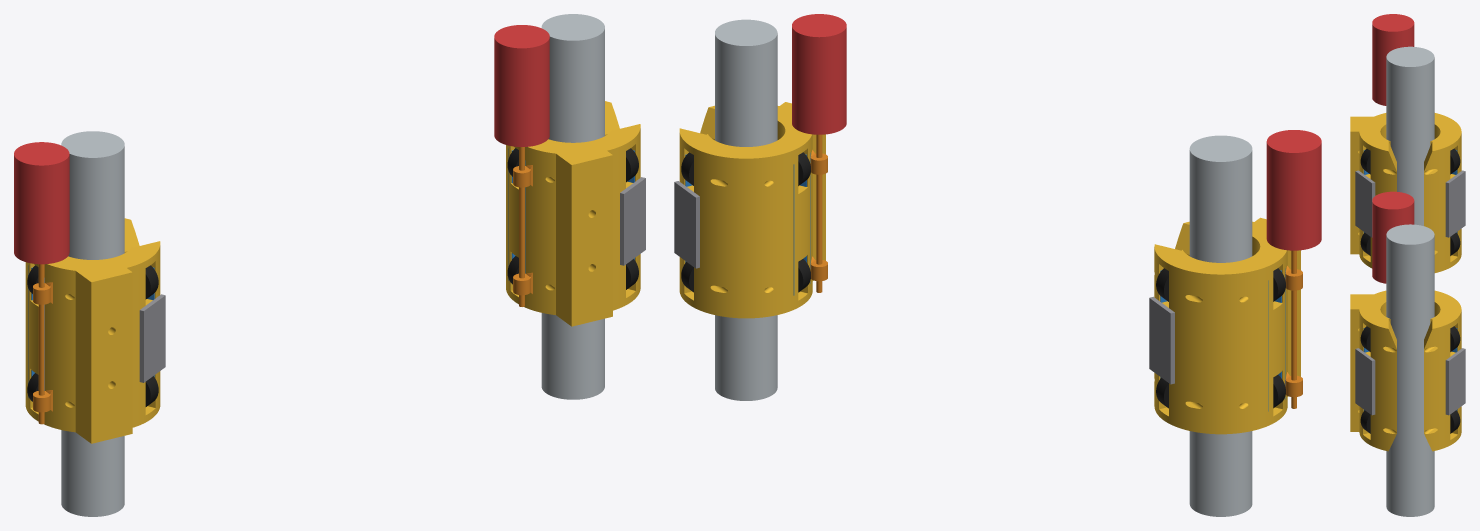
Rendered from cart-wheel-two-hands-v1.glb.
3 renders of one model, left to right at view 1: azimuth 30°, elevation 25°; view 2: azimuth 150°, elevation 25°; view 3: azimuth 270°, elevation 25°, orthographic. The views are drawn at different scales.
Visible parts, largest first — view 1: sleeve_B, sleeve_C, pipe_B, pipe_C, B_drive_motor, C_drive_motor, B_idler_m60_spring_cap, C_idler_m60_spring_cap, B_worm_shaft, C_worm_shaft; view 2: sleeve_C, sleeve_B, pipe_B, pipe_C, B_drive_motor, C_drive_motor, B_idler_p60_spring_cap, C_idler_p60_spring_cap, C_worm_shaft, B_worm_shaft; view 3: pipe_C, sleeve_C, sleeve_B, pipe_B, C_drive_motor, B_drive_motor, B_idler_p60_spring_cap, C_idler_p60_spring_cap, C_idler_m60_spring_cap, B_idler_m60_spring_cap, B_idler_m60_wheels, C_idler_p60_wheels (+2 smaller).
Part boxes in pixels (x1,y1,x2,y2): sleeve_B: (25, 218, 160, 443); sleeve_C: (506, 101, 640, 326); pipe_B: (61, 131, 124, 516); pipe_C: (541, 14, 604, 399); B_drive_motor: (14, 142, 69, 264); C_drive_motor: (494, 25, 549, 146); B_idler_m60_spring_cap: (139, 294, 165, 382); C_idler_m60_spring_cap: (620, 177, 645, 265); B_worm_shaft: (33, 264, 50, 424); C_worm_shaft: (513, 147, 530, 306); sleeve_C: (679, 102, 825, 318); sleeve_B: (1154, 217, 1300, 434); pipe_B: (1189, 135, 1252, 516); pipe_C: (715, 19, 777, 400); B_drive_motor: (1266, 130, 1321, 250); C_drive_motor: (792, 14, 846, 134); B_idler_p60_spring_cap: (1149, 296, 1174, 384); C_idler_p60_spring_cap: (674, 181, 699, 268); C_worm_shaft: (810, 134, 827, 292); B_worm_shaft: (1285, 250, 1302, 408); pipe_C: (1386, 224, 1434, 516); sleeve_C: (1350, 290, 1461, 451); sleeve_B: (1350, 113, 1461, 272); pipe_B: (1386, 46, 1434, 225); C_drive_motor: (1372, 191, 1414, 283); B_drive_motor: (1372, 14, 1414, 105); B_idler_p60_spring_cap: (1445, 170, 1465, 237); C_idler_p60_spring_cap: (1445, 348, 1465, 415); C_idler_m60_spring_cap: (1355, 348, 1375, 415); B_idler_m60_spring_cap: (1355, 170, 1375, 237); B_idler_m60_wheels: (1360, 148, 1370, 255); C_idler_p60_wheels: (1450, 326, 1460, 433).
Size of the model in its own units: 363 by 208 by 76.68.
